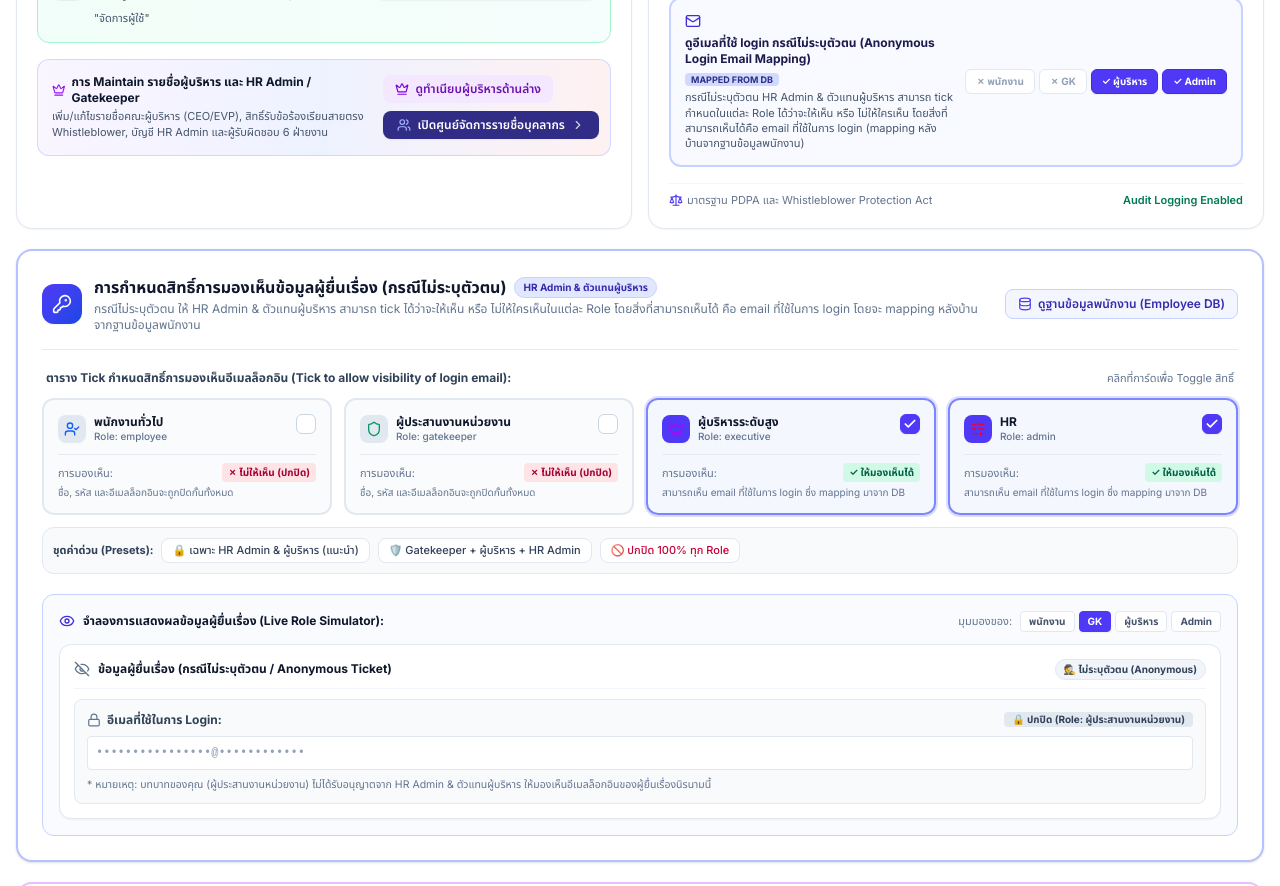
Test case: RoleBasedAccessManagement › permission matrix › shows the generic error toast for any other failure
(page scrolled)
Click the text "Role: employee" at (131, 437), box [94,429,167,444]
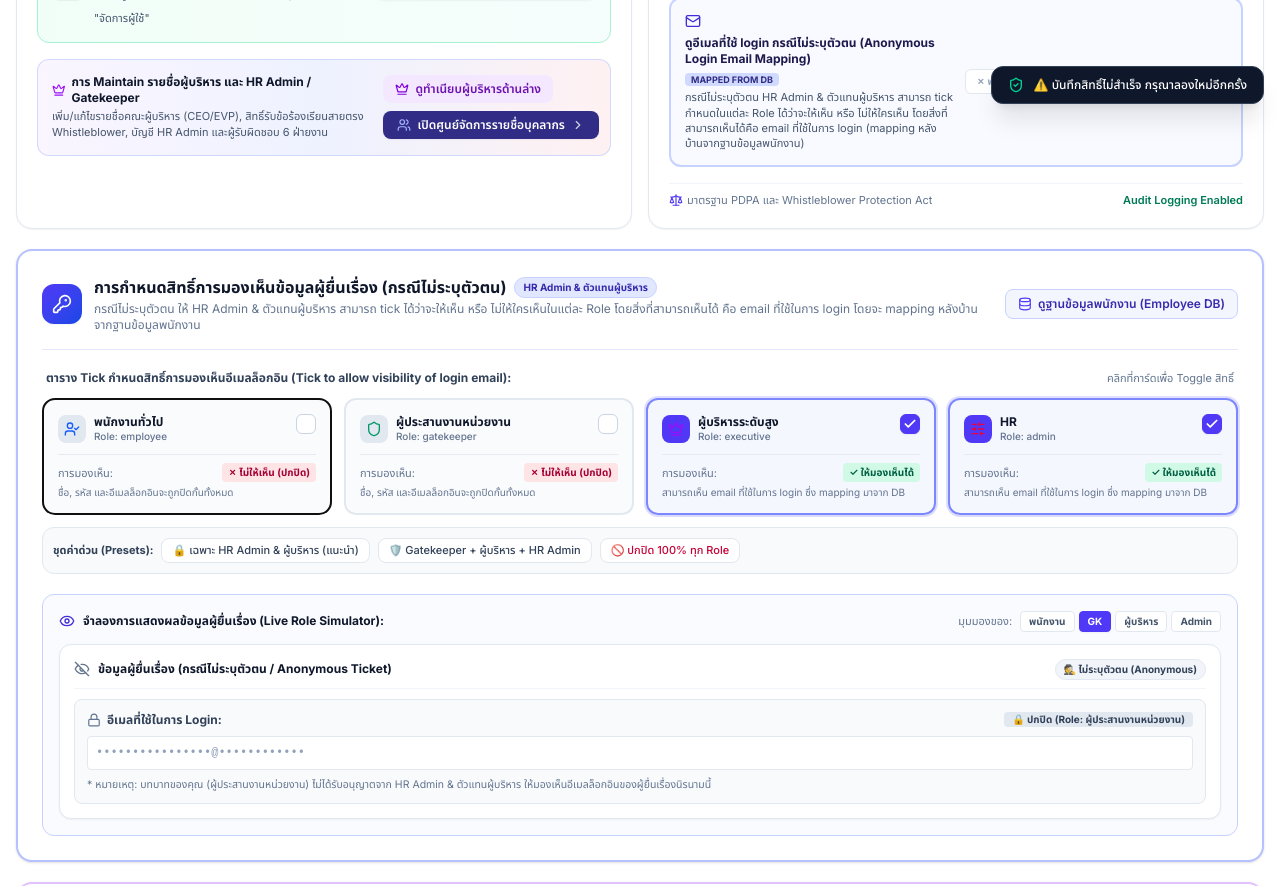
Check: the text "⚠️ บันทึกสิทธิ์ไม่สำเร็จ กรุณาลองใหม่อีกครั้ง" is shown, box [1034,77,1247,93]
